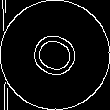O_SE: (23, 25, 87, 85)
